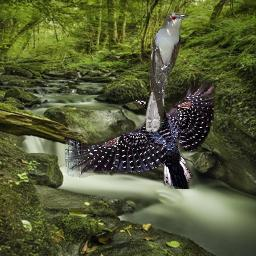Cuckoo: (144, 11, 189, 132)
Woodpecker: (65, 79, 215, 189)
